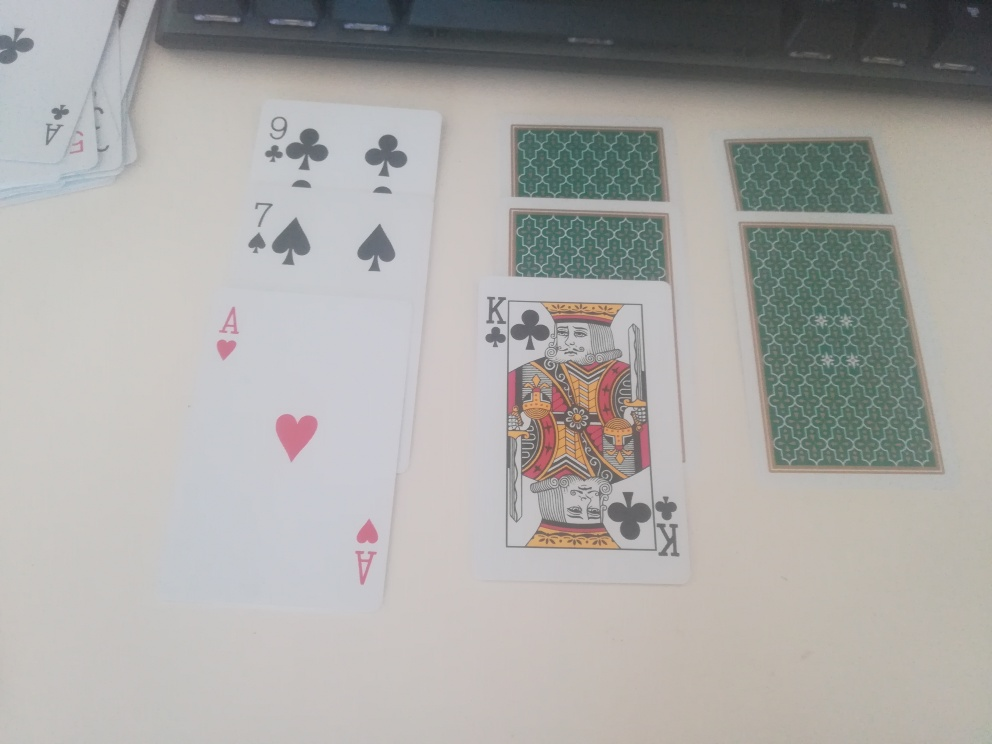7S: (247, 197, 278, 257)
9C: (260, 113, 295, 164)
AH: (214, 301, 248, 368)
BACK: (737, 224, 947, 485), (504, 118, 672, 205), (723, 136, 896, 220), (505, 207, 673, 281)
KC: (480, 291, 512, 351)
